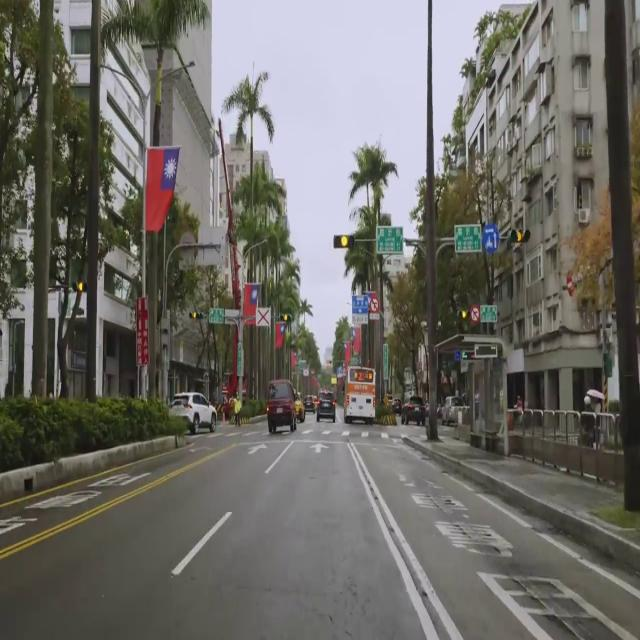yellow light: (334, 236, 354, 248), (281, 312, 292, 323)
